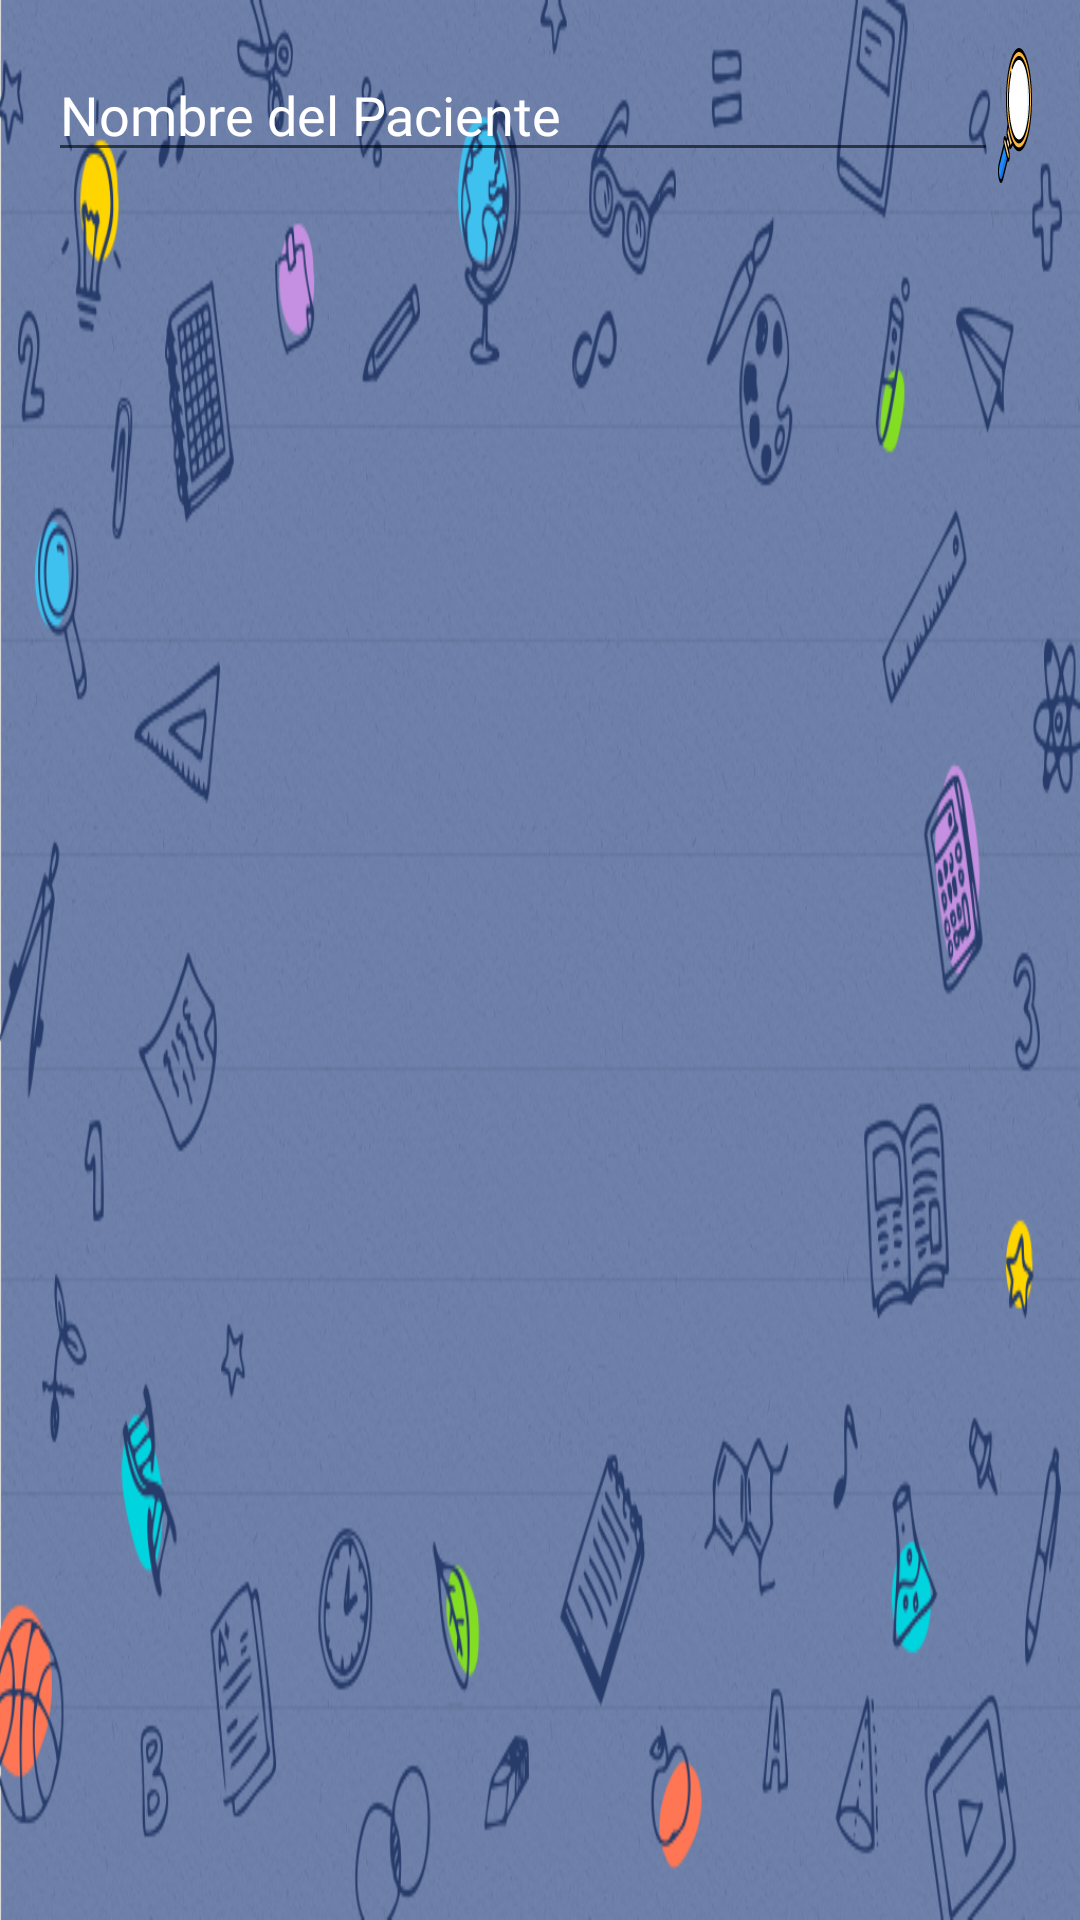

Point at icon controls on the screen. Image size 1080*1920, points as [x,y].
search list patient: [1015,115]
